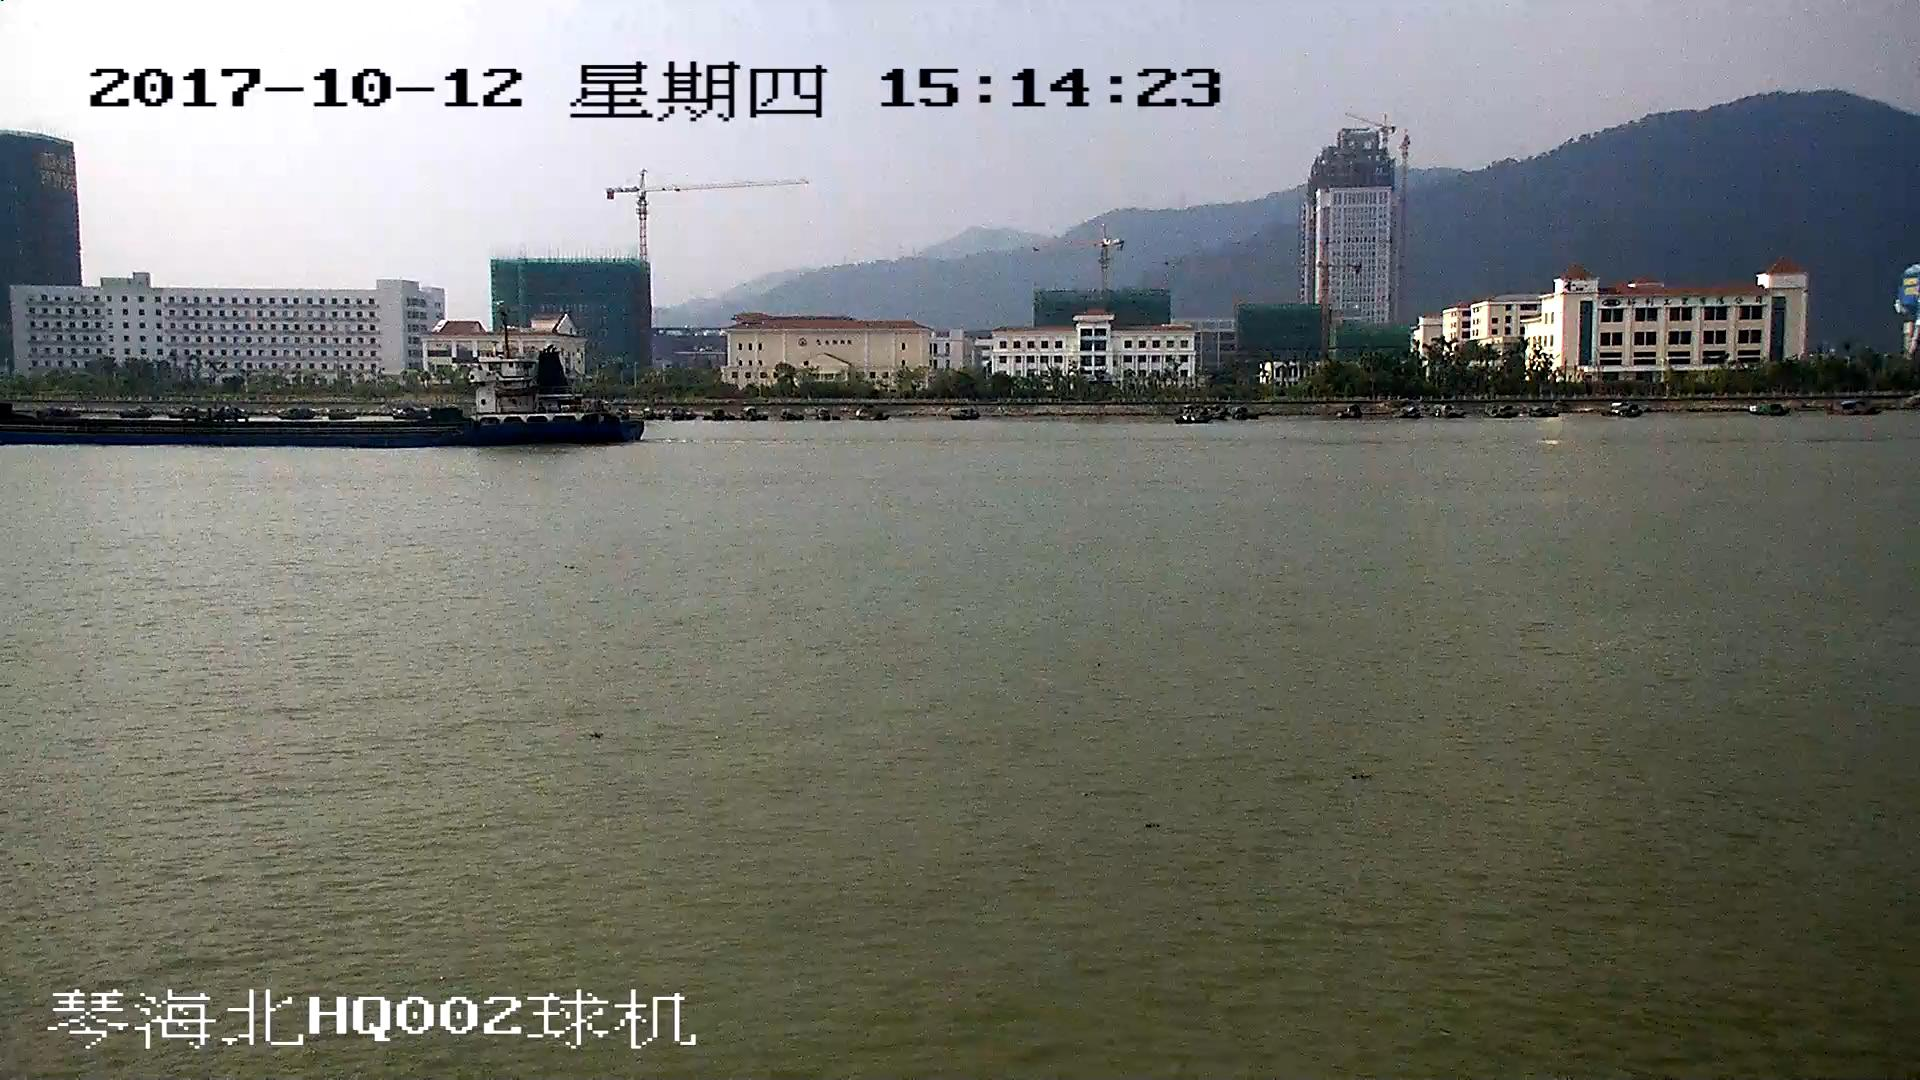general cargo ship: (1, 348, 646, 449)
